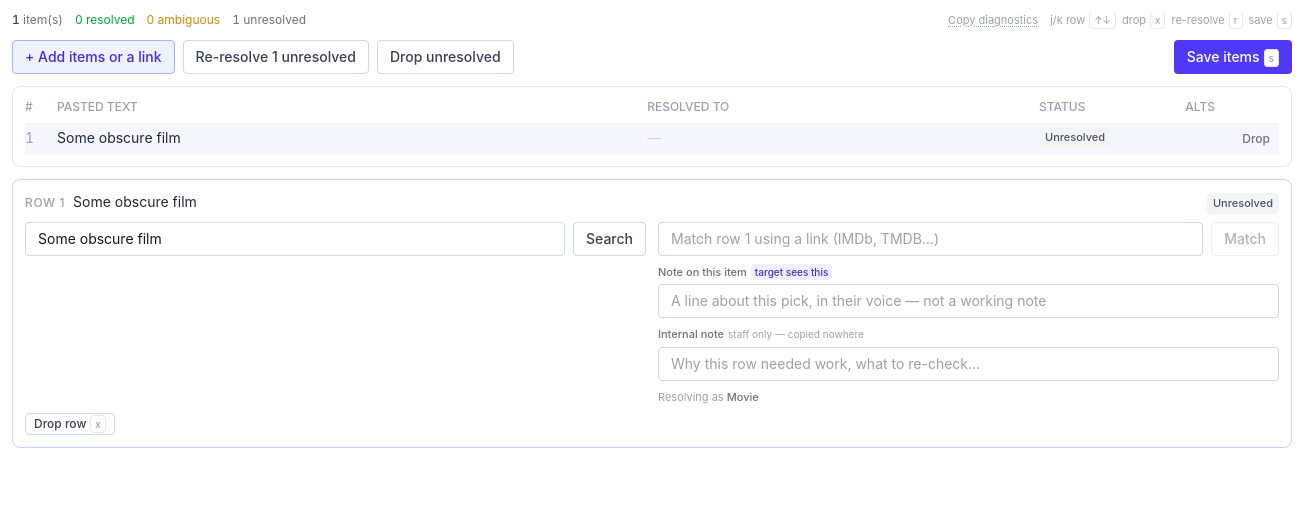
it: builder — adding a thing we do not hold yet › a link with no identifier is a different problem, and says so
In the field with placeholder "Match row 1 using a link (IMDb, TMDB…)": (931, 238) [658,222,1203,256], type "https://example.com/some-blog-post"
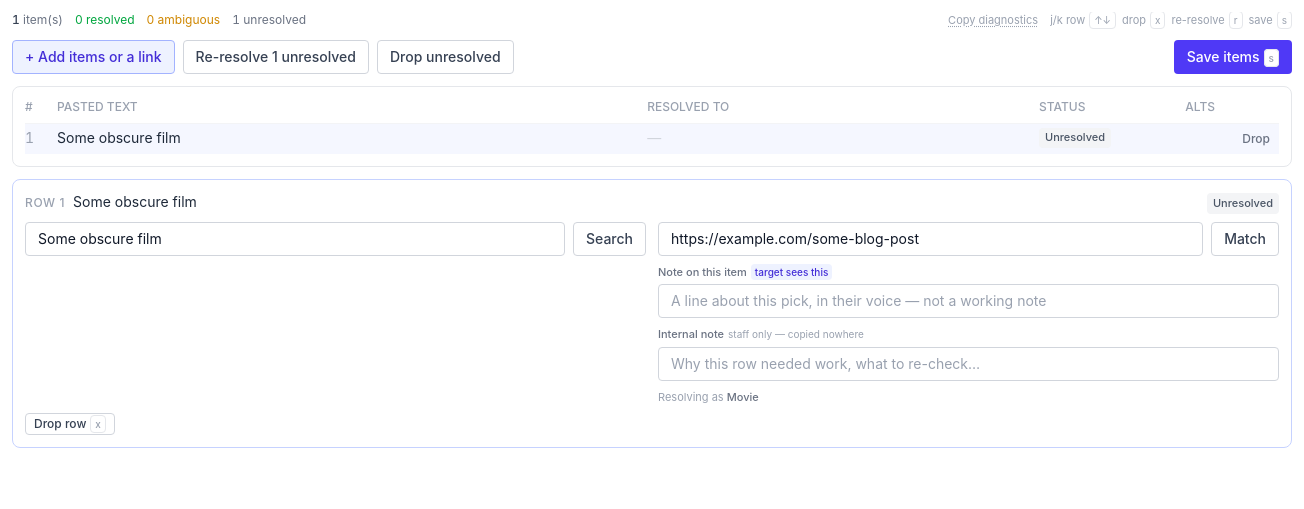
Click the button "Match": click(1245, 238) [1211,222,1279,256]
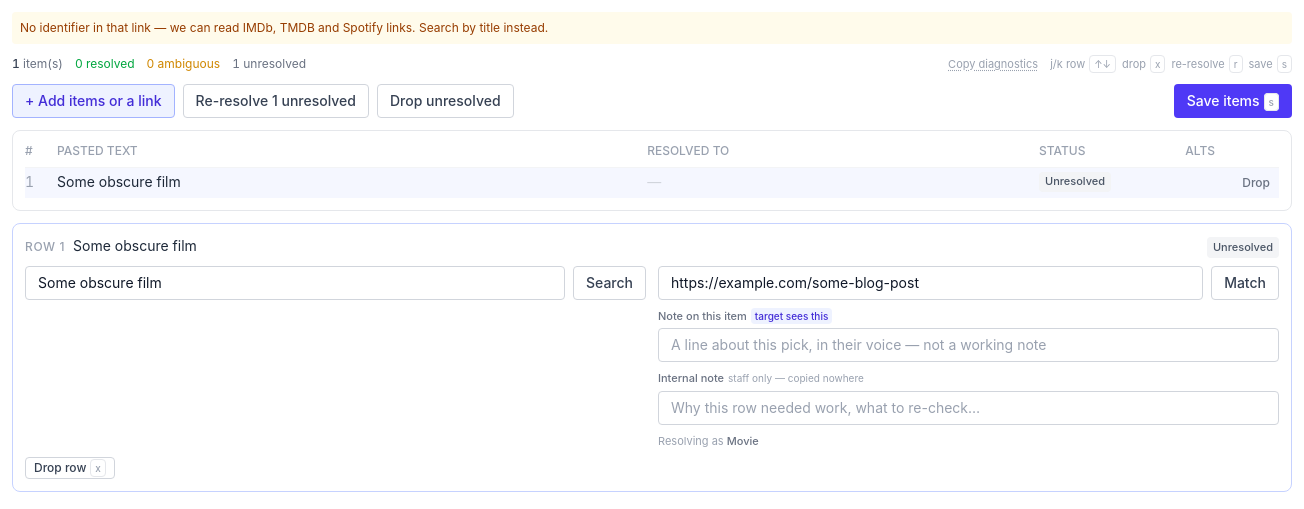
Result: the text "No identifier in that link" is shown at [20,20,548,35]
